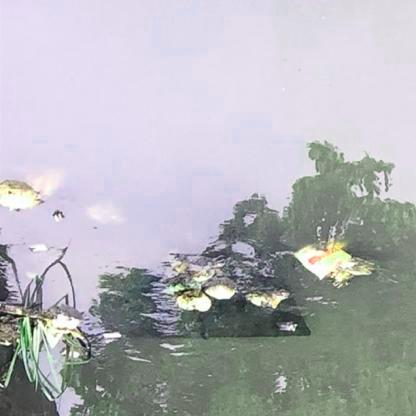Trash: (290, 241, 378, 290), (244, 290, 286, 314), (178, 292, 214, 314), (202, 282, 236, 304)
